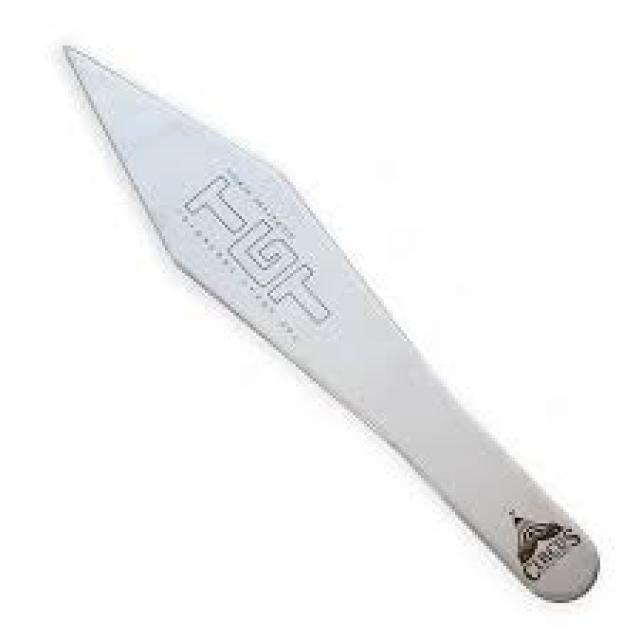knives: (54, 37, 606, 609)
